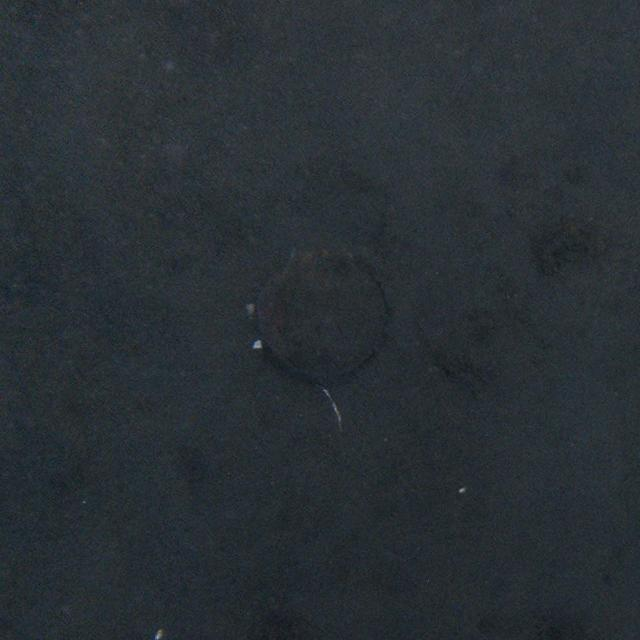scallop: (258, 244, 390, 382)
